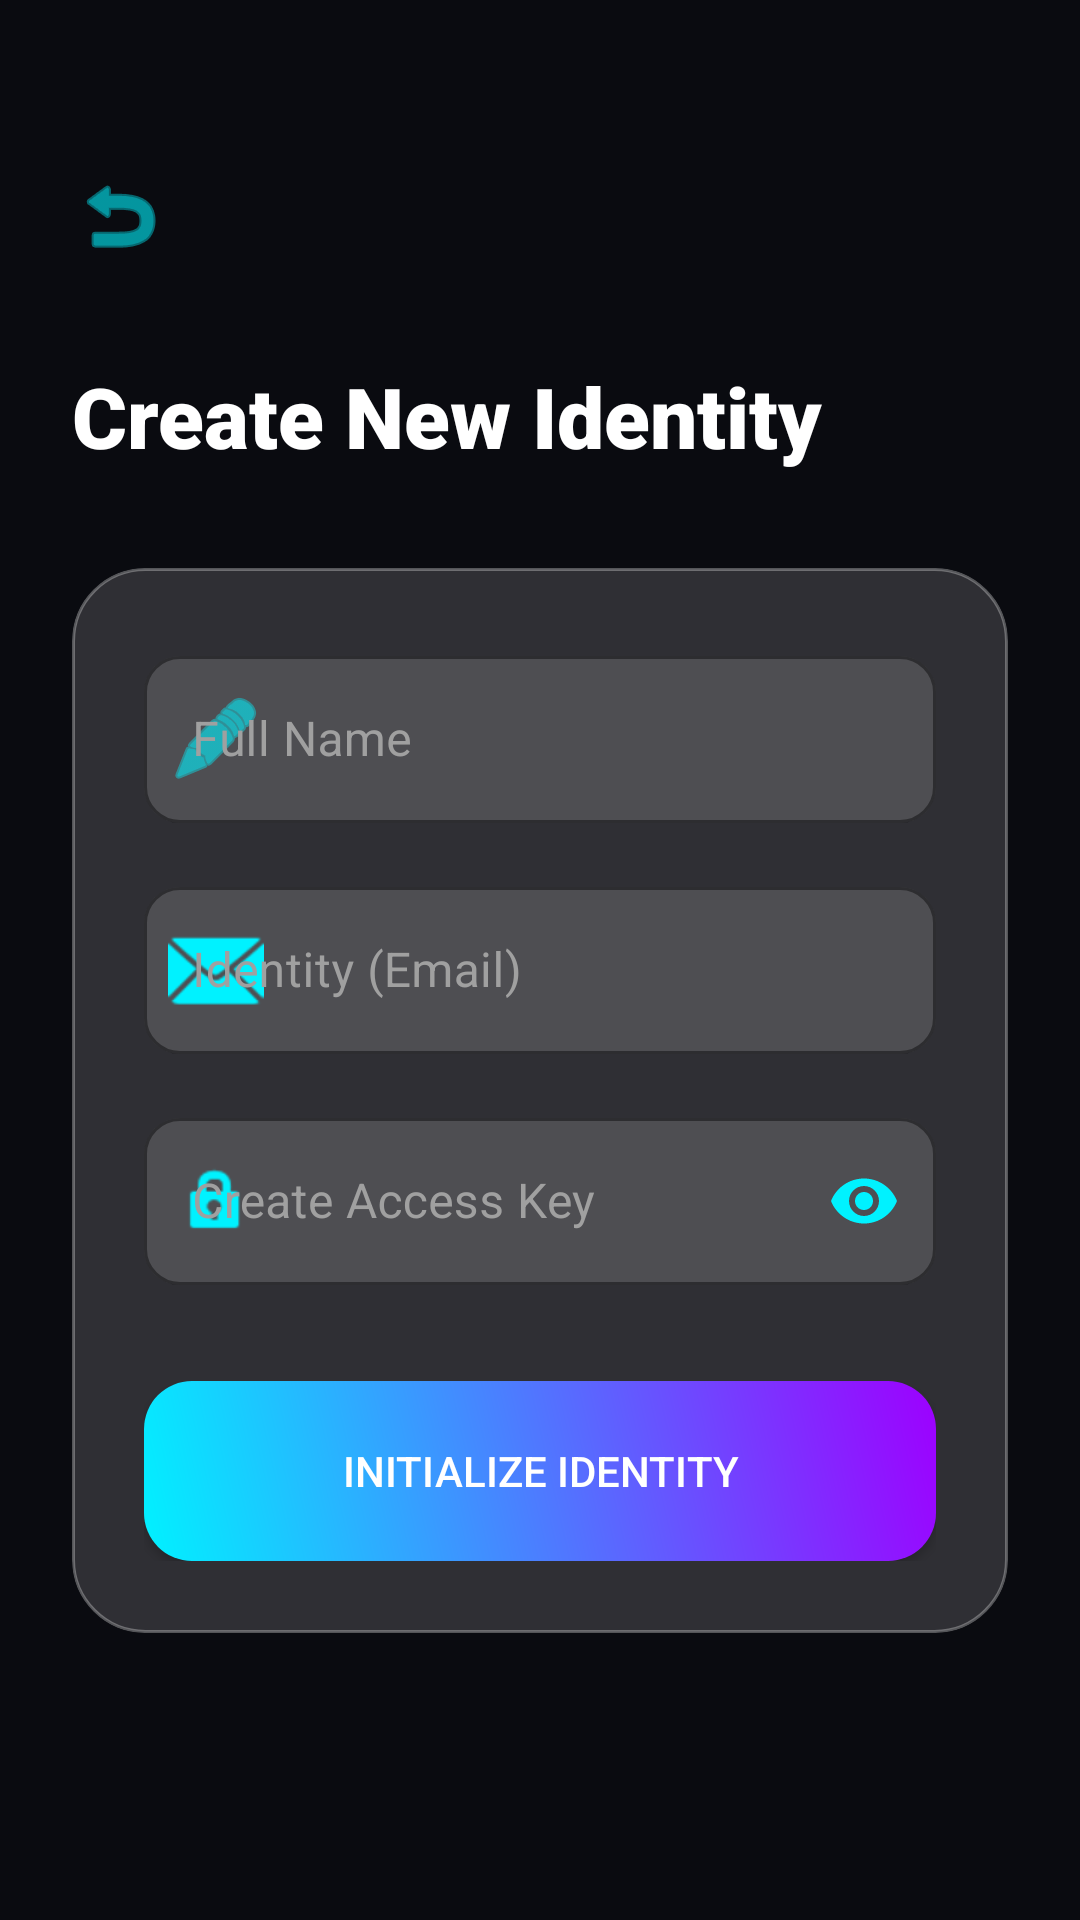

Icon bounding boxes for this 1080 × 1920 phone screenshot, format bbox=[x1, y1, x2, y2]:
revert: bbox=[87, 185, 156, 248]
